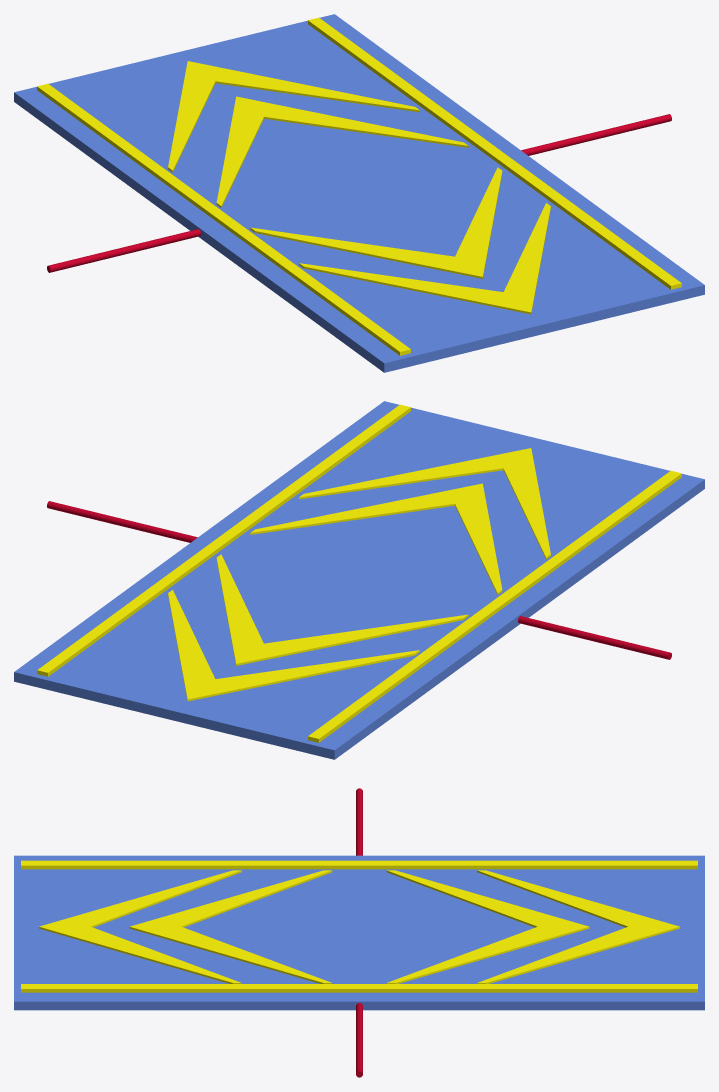
Rendered from fallingplatffbx.fbx.
The picture shows the model from 3 angles, top to bottom: view 1: azimuth 30°, elevation 25°; view 2: azimuth 150°, elevation 25°; view 3: azimuth 270°, elevation 25°; orthographic projection. The views are drawn at different scales.
Visible parts, largest first — view 1: Cube; view 2: Cube; view 3: Cube.
Boxes of the visible parts, x1=… form: Cube: x1=14, y1=14, x2=704, y2=372; Cube: x1=14, y1=401, x2=704, y2=759; Cube: x1=14, y1=788, x2=704, y2=1077.
Bounding box in the file's own units: 1163 × 24.08 × 1200.
